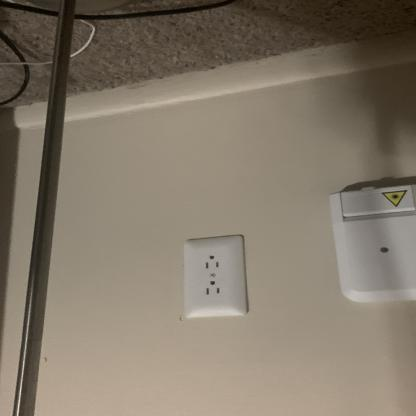OUTLET: (182, 235, 246, 318)
